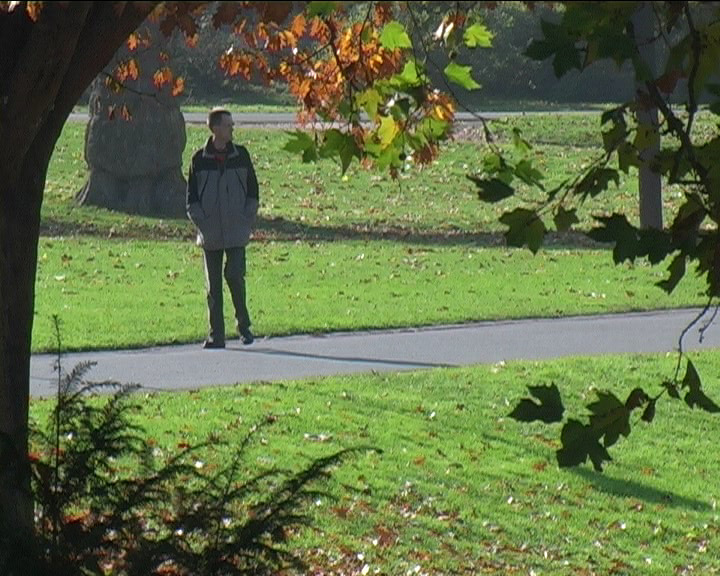deflection: (186, 106, 260, 192)
